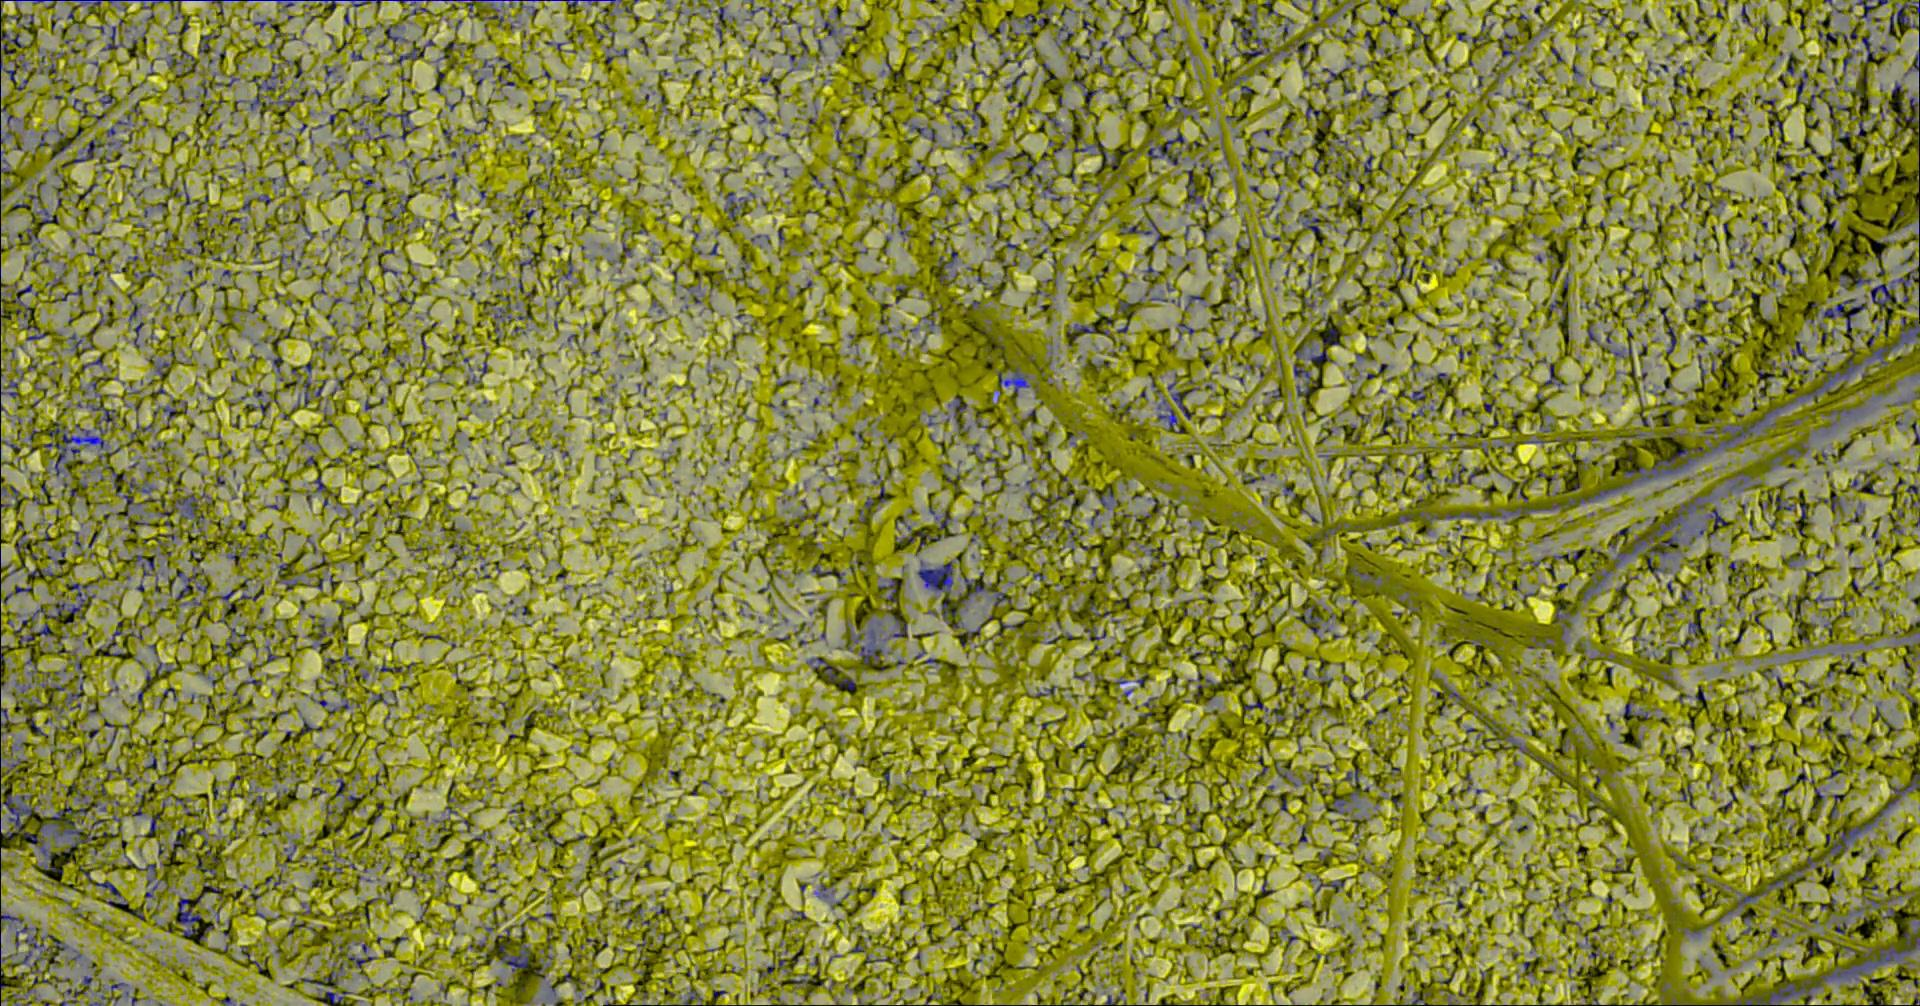ant: (1825, 774, 1919, 856), (1613, 495, 1703, 567), (1484, 719, 1559, 775), (15, 934, 69, 984), (1865, 315, 1919, 365), (249, 64, 303, 111), (1869, 260, 1919, 309), (1760, 855, 1815, 895), (1230, 5, 1269, 62), (123, 851, 166, 897), (894, 518, 956, 547), (1644, 530, 1679, 582), (1822, 298, 1867, 338), (13, 607, 57, 647), (1330, 767, 1368, 813), (61, 138, 123, 166), (83, 870, 127, 907), (1760, 493, 1810, 523), (55, 582, 95, 619), (1072, 137, 1119, 168), (1145, 128, 1183, 165), (1360, 80, 1396, 119), (122, 478, 156, 517), (1120, 217, 1161, 250), (1893, 97, 1919, 149), (1843, 36, 1874, 75), (390, 38, 434, 64), (1888, 0, 1919, 37), (173, 494, 203, 531), (383, 109, 419, 140), (1182, 168, 1206, 211), (298, 963, 337, 989), (175, 567, 206, 600), (1072, 77, 1098, 114), (177, 895, 201, 936), (997, 366, 1029, 396), (350, 117, 391, 140), (1170, 387, 1199, 419), (1187, 669, 1219, 699), (1010, 8, 1051, 29), (723, 191, 748, 226), (1580, 570, 1610, 600), (498, 942, 530, 970), (1242, 701, 1285, 721), (201, 72, 239, 95), (1810, 145, 1835, 179), (1658, 306, 1676, 354), (858, 627, 883, 663), (518, 259, 537, 304), (947, 398, 970, 434), (1823, 99, 1857, 124), (63, 674, 88, 709), (29, 692, 63, 716), (1156, 404, 1183, 433), (806, 655, 836, 683), (0, 28, 30, 55), (1293, 363, 1316, 399), (1298, 211, 1330, 236), (143, 799, 165, 836), (1470, 10, 1493, 44), (324, 645, 353, 672), (1818, 27, 1857, 47), (225, 625, 249, 657), (707, 6, 726, 46), (1294, 605, 1321, 633), (951, 102, 982, 126), (17, 227, 39, 259), (27, 664, 58, 687), (0, 911, 23, 942), (1540, 363, 1567, 390), (277, 563, 303, 589), (0, 55, 25, 83), (1310, 67, 1338, 93), (98, 621, 123, 649), (810, 564, 844, 584), (182, 180, 208, 206), (13, 285, 32, 319), (1335, 160, 1359, 187), (1818, 177, 1843, 203), (1079, 18, 1095, 60), (14, 926, 37, 954), (740, 105, 776, 123), (1308, 875, 1343, 893), (1837, 271, 1870, 290), (291, 377, 310, 410), (1707, 508, 1727, 539), (100, 25, 124, 51), (298, 122, 323, 147), (237, 577, 263, 601), (1849, 470, 1876, 493), (0, 6, 33, 24), (0, 586, 33, 603), (137, 671, 151, 713), (877, 578, 902, 602), (130, 554, 155, 577), (1675, 685, 1705, 704), (199, 909, 218, 940), (1831, 127, 1851, 155), (1023, 156, 1044, 184), (757, 958, 785, 978), (1443, 511, 1506, 520), (957, 624, 982, 647), (30, 206, 58, 225), (1790, 340, 1815, 362), (1065, 323, 1095, 340), (1760, 669, 1785, 690), (1793, 69, 1808, 102), (361, 86, 389, 104), (152, 404, 175, 426), (226, 542, 249, 564), (198, 29, 218, 53), (1542, 298, 1566, 319), (69, 332, 94, 351), (1622, 702, 1647, 721), (116, 114, 132, 144), (347, 954, 376, 970), (909, 124, 936, 142), (1350, 565, 1377, 583), (296, 716, 323, 734), (1444, 464, 1465, 485), (1608, 526, 1629, 547), (1406, 19, 1429, 39), (1043, 178, 1063, 201), (1727, 561, 1747, 584), (1183, 220, 1208, 239), (447, 544, 466, 568), (1498, 30, 1515, 57), (494, 296, 510, 323), (1302, 273, 1314, 307), (1177, 316, 1196, 339), (1817, 493, 1841, 511), (1308, 347, 1333, 363), (58, 988, 84, 1005), (1855, 0, 1876, 20), (202, 880, 222, 901), (1004, 71, 1027, 89), (151, 527, 174, 545), (889, 614, 907, 636), (1396, 255, 1412, 279), (1679, 784, 1695, 808), (171, 826, 185, 854), (387, 23, 406, 43), (127, 292, 140, 323), (1830, 793, 1845, 818), (196, 855, 215, 875), (1046, 494, 1064, 516), (604, 47, 627, 64), (518, 205, 535, 227), (1685, 298, 1718, 310), (23, 324, 46, 340), (1275, 149, 1302, 163), (110, 469, 124, 495), (375, 658, 401, 672), (324, 991, 350, 1005), (312, 617, 325, 647), (829, 117, 844, 141), (245, 400, 269, 415), (1903, 484, 1919, 508), (483, 8, 503, 25), (937, 249, 957, 267), (683, 984, 701, 1005), (1730, 473, 1751, 489), (1277, 17, 1293, 39), (1909, 52, 1919, 86), (1782, 551, 1804, 567), (1095, 56, 1112, 75), (1321, 326, 1338, 345), (0, 379, 18, 398), (789, 973, 815, 986), (1090, 601, 1110, 617), (270, 354, 283, 380), (88, 995, 119, 1005), (1098, 486, 1112, 509), (1083, 625, 1106, 639), (154, 361, 171, 379), (1801, 594, 1836, 603), (0, 485, 19, 502), (1335, 28, 1355, 43), (335, 770, 347, 796), (1736, 894, 1757, 908), (1304, 105, 1321, 123), (844, 151, 861, 169), (497, 57, 516, 72), (47, 64, 62, 83), (1785, 443, 1808, 456), (1310, 527, 1336, 539), (1810, 89, 1823, 109), (1763, 455, 1783, 469), (1785, 53, 1798, 75), (823, 20, 839, 37), (1057, 23, 1073, 39), (1553, 606, 1570, 622), (27, 567, 53, 577), (156, 661, 175, 674), (132, 793, 143, 815), (1363, 152, 1374, 174), (1426, 372, 1448, 384), (1410, 387, 1429, 400), (938, 511, 951, 530), (15, 533, 28, 553), (1552, 550, 1578, 559), (1413, 461, 1425, 481), (1483, 399, 1497, 415), (312, 475, 326, 492), (838, 674, 855, 688), (98, 93, 116, 105), (1688, 622, 1702, 638), (0, 708, 8, 735), (37, 622, 51, 636), (1857, 119, 1867, 137)
